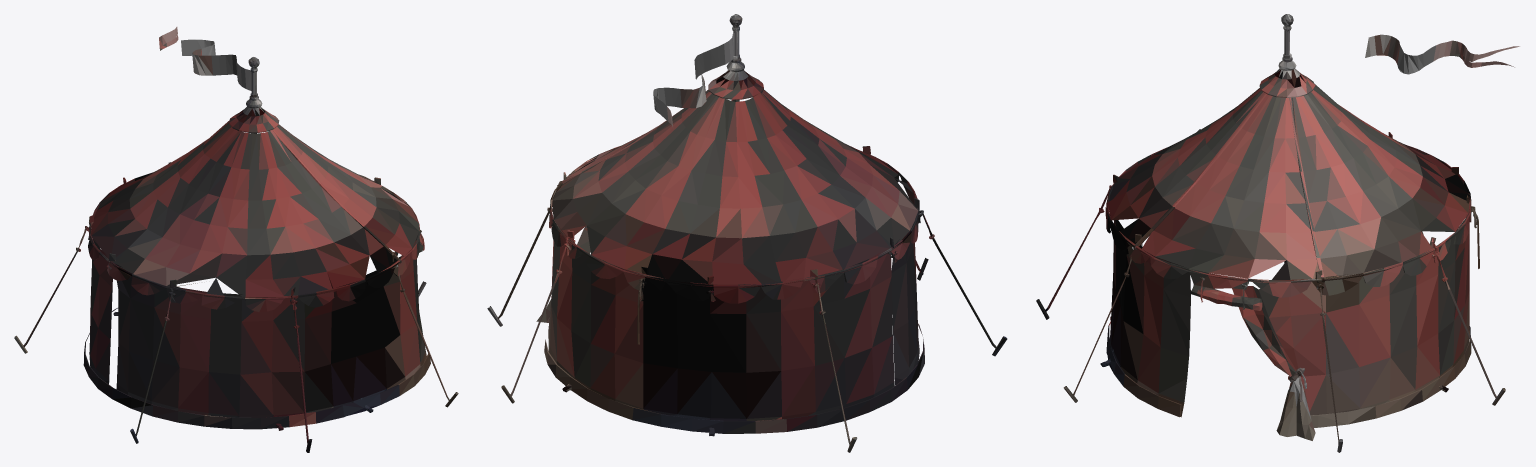
The model's file is Tent_Attack.glb.
3 views of the same model, side by side, from view 1: azimuth 30°, elevation 25°; view 2: azimuth 150°, elevation 25°; view 3: azimuth 270°, elevation 25° (orthographic). The views are drawn at different scales.
Visible parts, largest first — view 1: world; view 2: world; view 3: world.
Boxes of the visible parts, x1,y1,x2,y2 form: world: (14,27,458,452); world: (487,14,1007,452); world: (1036,14,1519,452).
Bounding box in the file's own units: 0.9941 × 0.7676 × 0.998.
